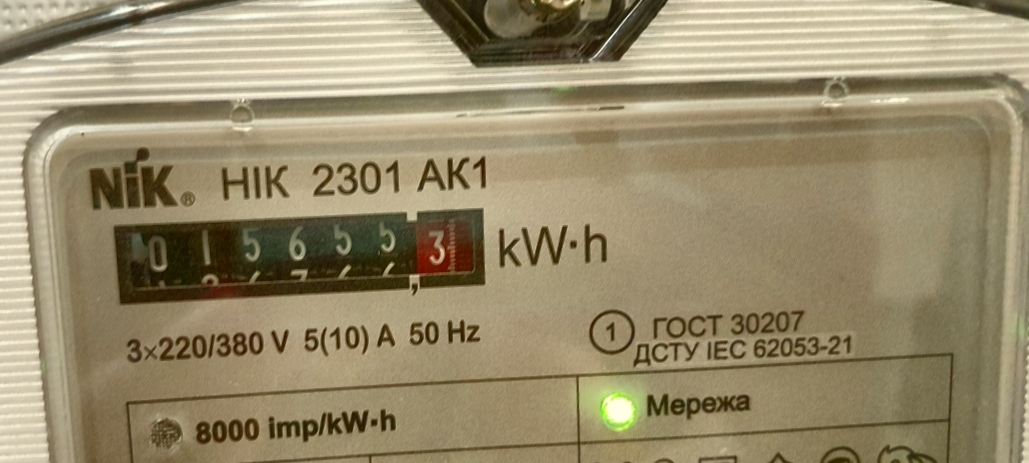0: (145, 232, 172, 275)
1: (197, 229, 217, 268)
3: (427, 229, 448, 266)
5: (239, 227, 265, 264), (332, 224, 356, 257), (378, 221, 399, 255)
6: (286, 226, 310, 263)
screen: (100, 189, 503, 322)
